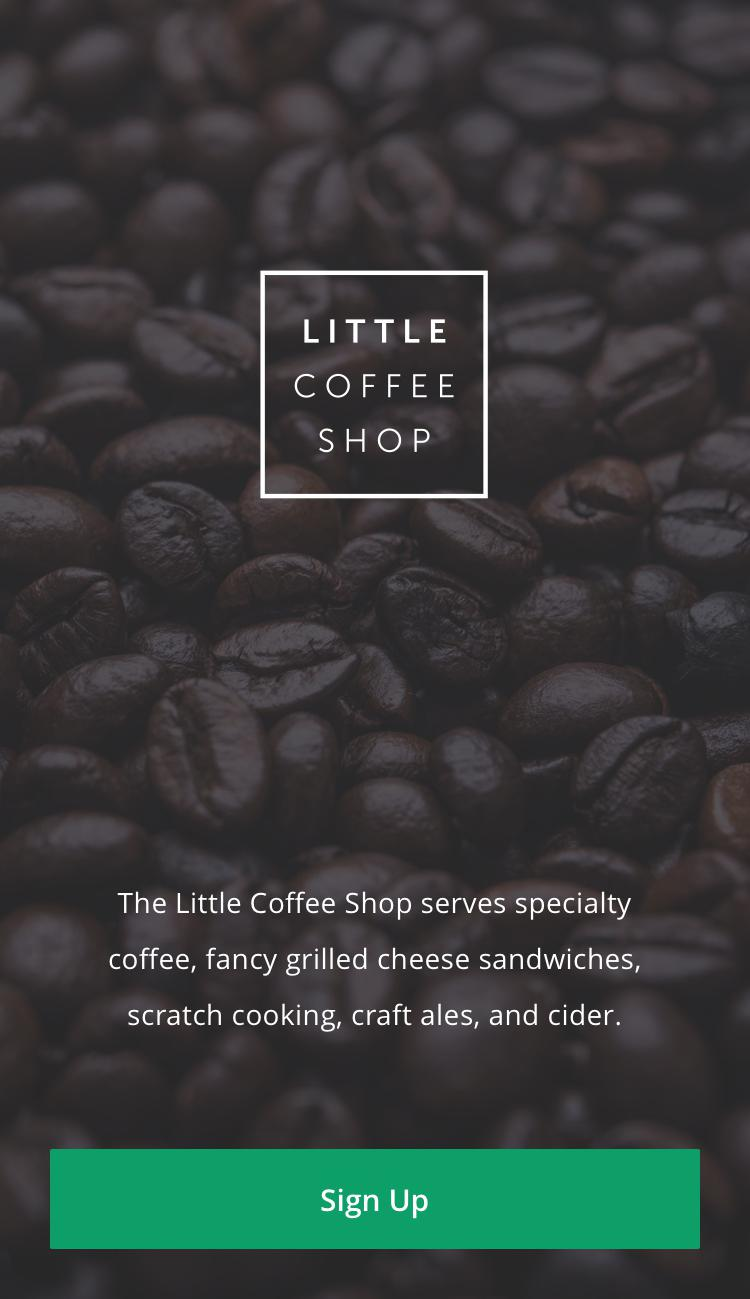BackgroundImage: (1, 1, 750, 1299)
Image: (259, 270, 489, 500)
Text: (108, 890, 641, 1034)
TextButton: (50, 1148, 701, 1250)
